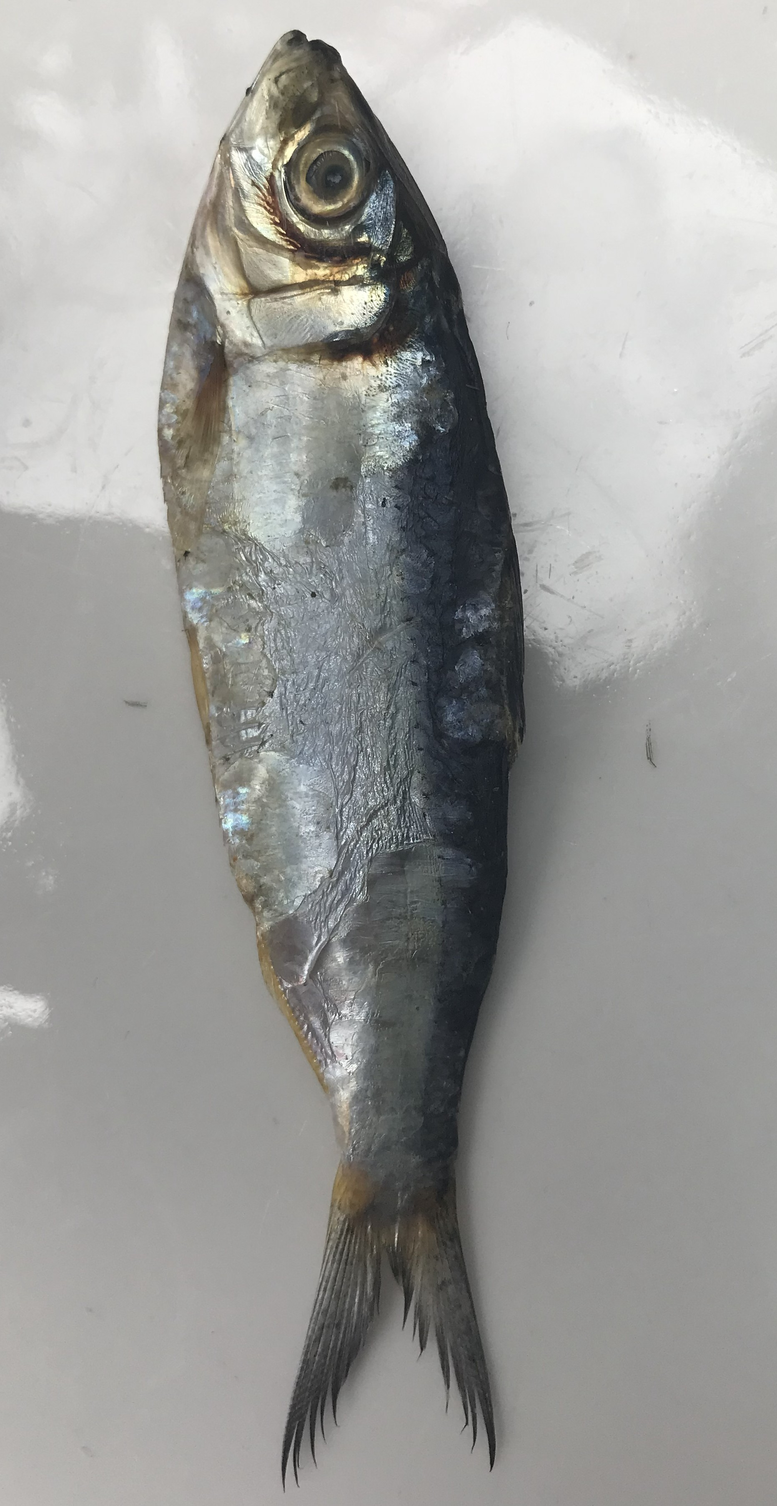tamban_dried_: (158, 30, 594, 1492)
